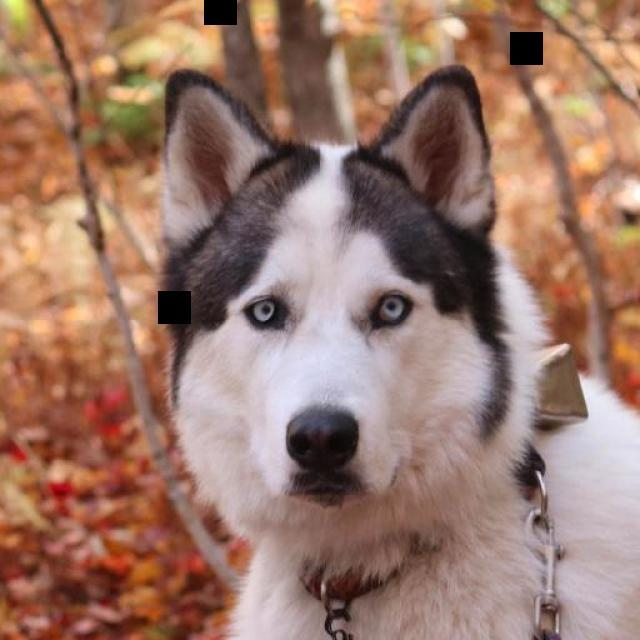adult_dog: (154, 66, 640, 633)
